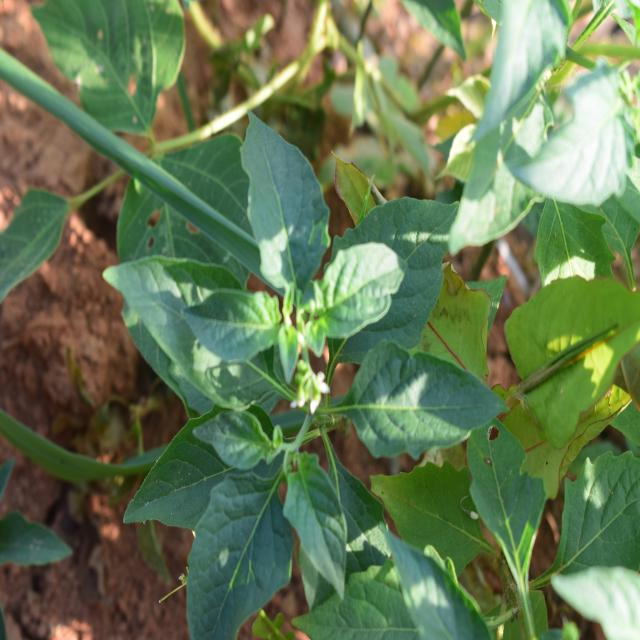Black_nightshade: (125, 148, 451, 614)
